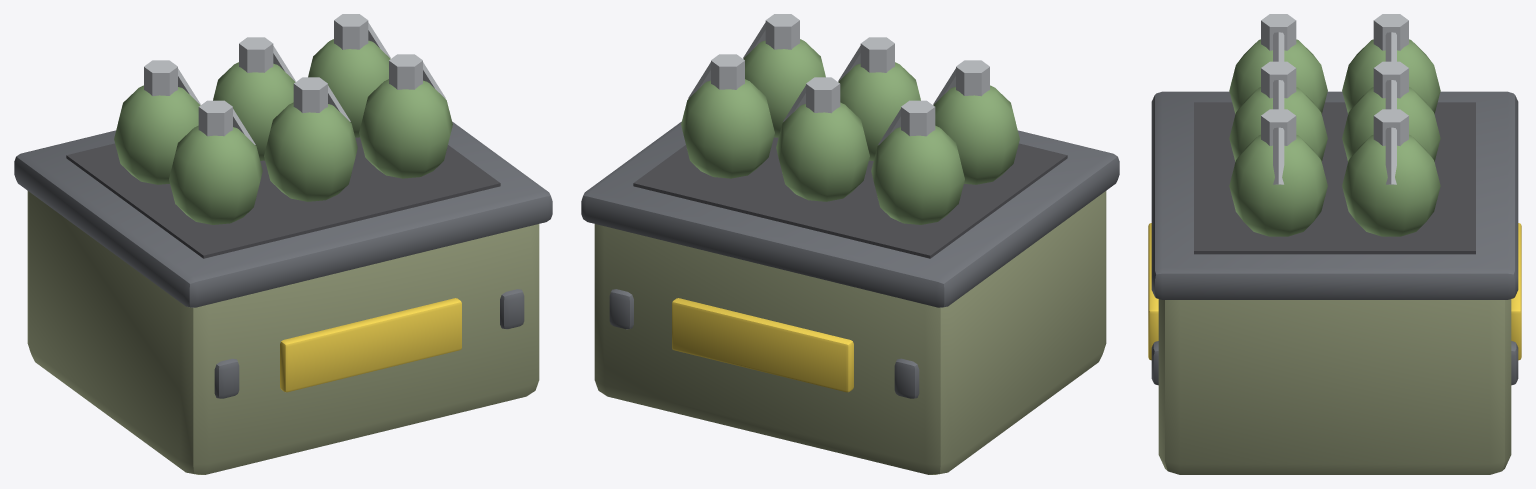
Rendered from crate_grenades.glb.
3 renders of one model, left to right at view 1: azimuth 30°, elevation 25°; view 2: azimuth 150°, elevation 25°; view 3: azimuth 270°, elevation 25°, orthographic. The views are drawn at different scales.
Parts seen in each view (by area): view 1: crate_grenades; view 2: crate_grenades; view 3: crate_grenades.
Part boxes in pixels (x1,y1,x2,y2): crate_grenades: (14, 14, 552, 474); crate_grenades: (581, 14, 1119, 474); crate_grenades: (1148, 14, 1521, 474).
Bounding box in the file's own units: 0.62 × 0.51 × 0.53.
